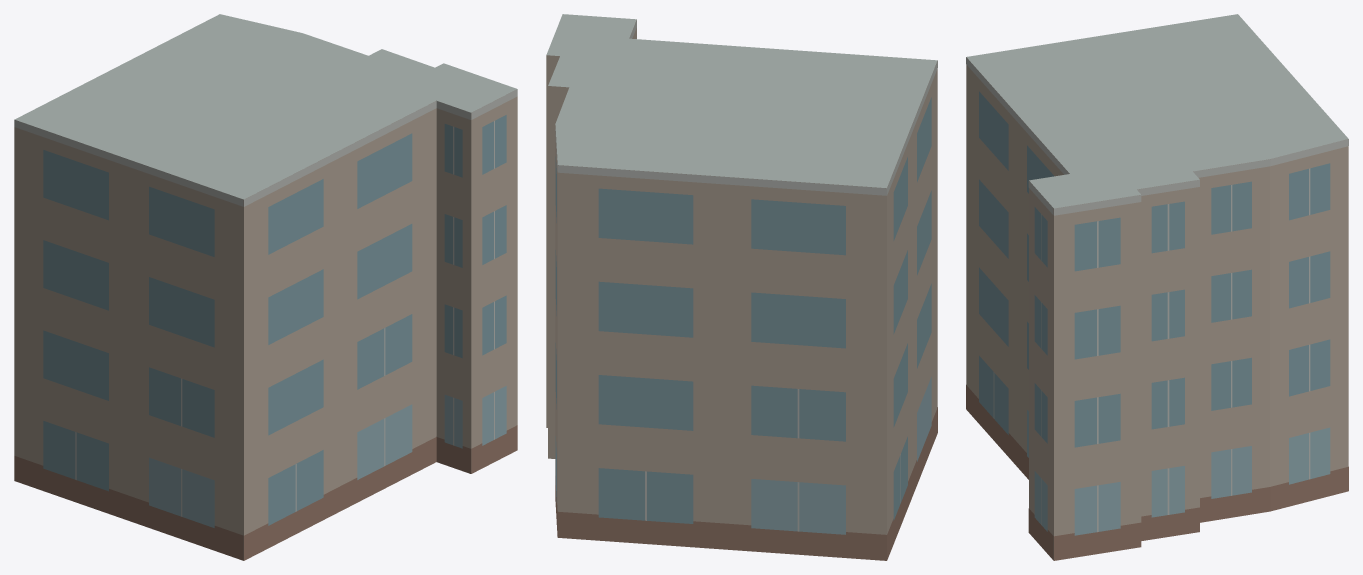
File: survey-upis-32524082.glb
3 renders of one model, left to right at view 1: azimuth 30°, elevation 25°; view 2: azimuth 150°, elevation 25°; view 3: azimuth 270°, elevation 25°, orthographic. The views are drawn at different scales.
Parts seen in each view (by area): view 1: survey-upis-32524082.tmp; view 2: survey-upis-32524082.tmp; view 3: survey-upis-32524082.tmp.
Boxes of the visible parts, <box> form: survey-upis-32524082.tmp: <box>14,14,517,560</box>; survey-upis-32524082.tmp: <box>546,14,937,560</box>; survey-upis-32524082.tmp: <box>966,14,1348,560</box>.
Bounding box in the file's own units: 14.04 × 11.85 × 11.67.
